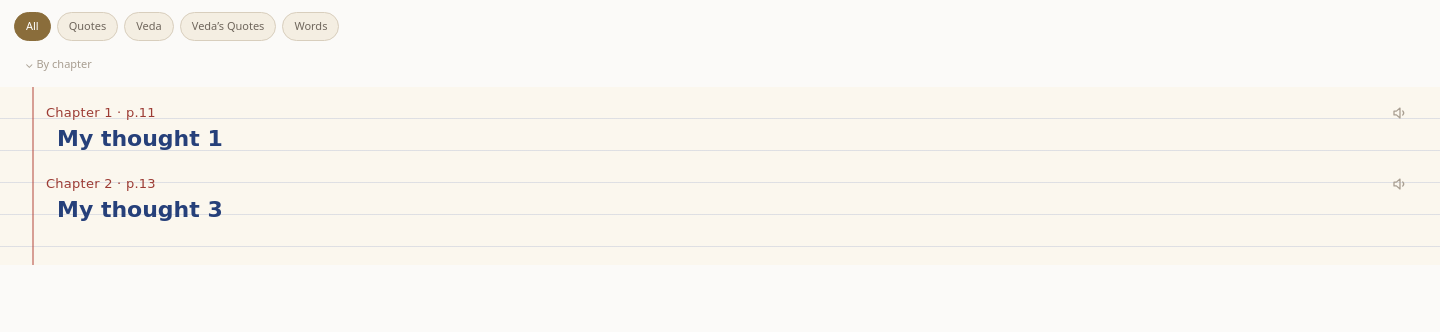
Test: arranging by chapter › groups whichever chip is chosen, and is off to begin with
What coordinates should you click on to do the following:
click the button "By chapter"
I would click on:
 (58, 64)
Its box is [14,50,103,77].
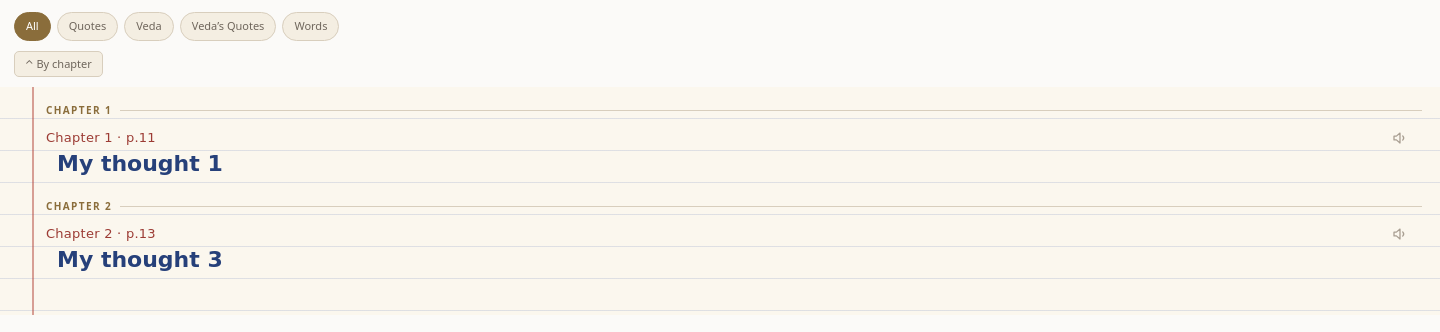
Expected: the heading "Chapter 1" is shown, [46,103,112,117]
Expected: the heading "Chapter 2" is shown, [46,199,112,213]
